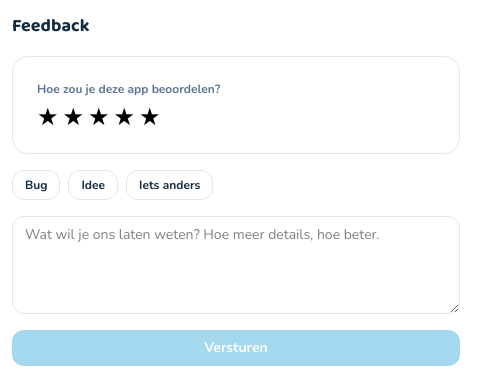
Test: Feedback › parent role › submit is disabled until both a rating and a message are given
The image size is (477, 383).
Check: the button "Versturen" is disabled, box 12,330 -> 460,366
Click the 4th button "★" at point(124, 117), box 114,105 -> 135,129
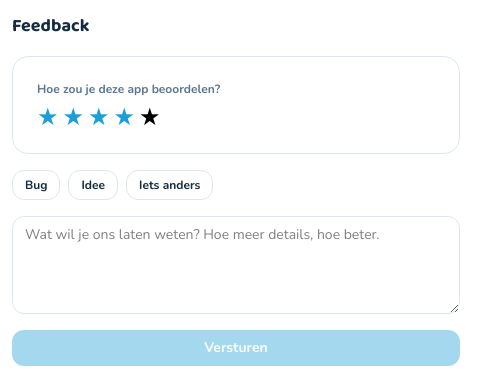
Check: the button "Versturen" is disabled, box 12,330 -> 460,366
Type "Great app!" into the text box with placeholder "Wat wil je ons laten weten? Hoe meer details, hoe beter." at point(236, 265), box 12,216 -> 460,314
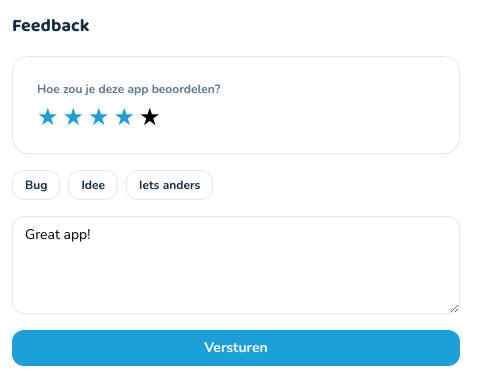
Check: the button "Versturen" is enabled, box 12,330 -> 460,366
